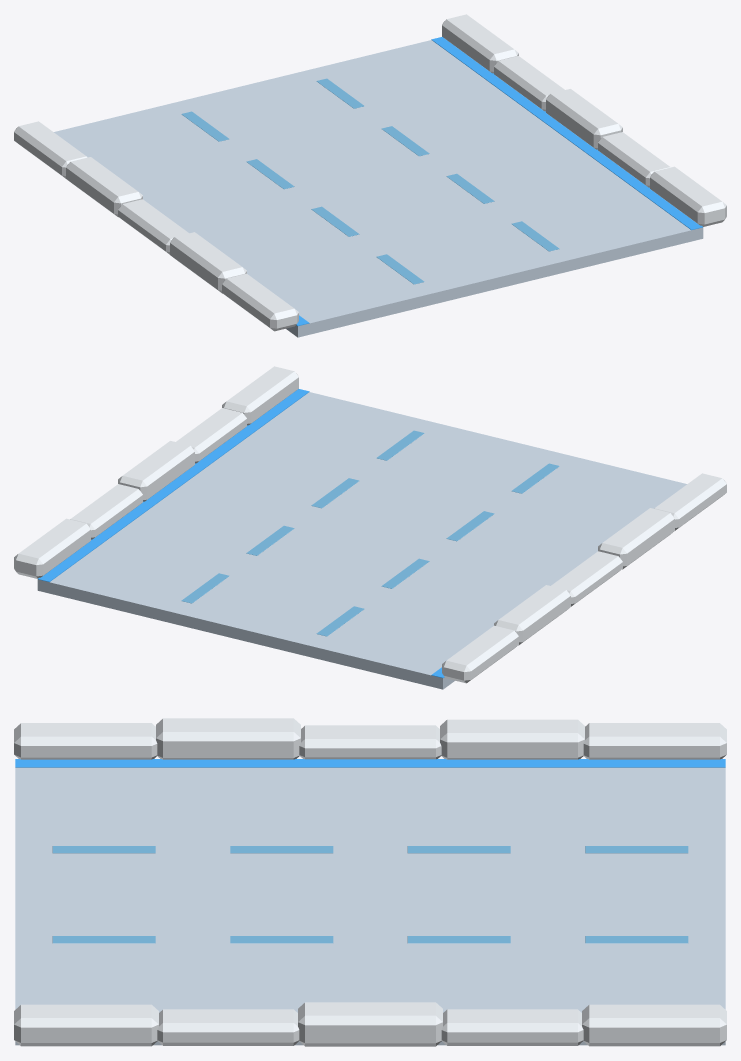
The model's file is Tundra_Road_10m.fbx.
3 views of the same model, one above another, from view 1: azimuth 30°, elevation 25°; view 2: azimuth 150°, elevation 25°; view 3: azimuth 270°, elevation 25° (orthographic). The views are drawn at different scales.
Visible parts, largest first — view 1: Tundra_Road_10m; view 2: Tundra_Road_10m; view 3: Tundra_Road_10m.
Part boxes in pixels (x1,y1,x2,y2): Tundra_Road_10m: (14,14,726,337); Tundra_Road_10m: (14,366,726,689); Tundra_Road_10m: (14,718,726,1046).
Bounding box in the file's own units: 10.15 × 0.6816 × 10.04.
